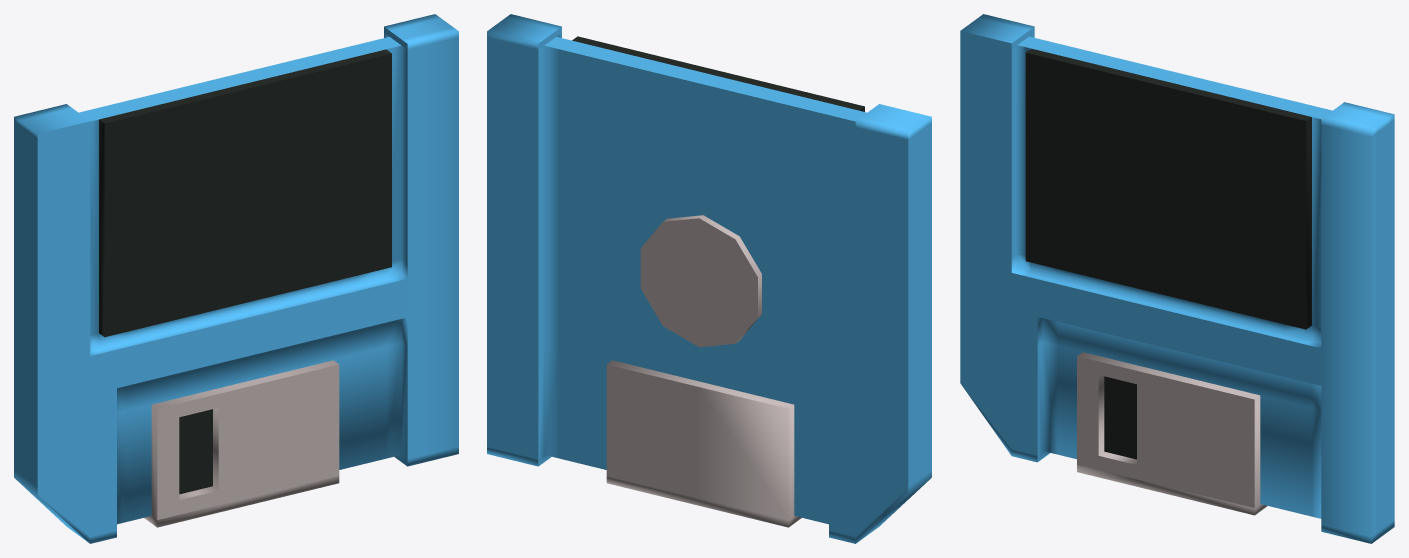
Rendered from floppydiskBLUE.fbx.
3 views of the same model, side by side, from view 1: azimuth 30°, elevation 25°; view 2: azimuth 150°, elevation 25°; view 3: azimuth 330°, elevation 25° (orthographic). The views are drawn at different scales.
Parts seen in each view (by area): view 1: floppy; view 2: floppy; view 3: floppy.
Boxes of the visible parts, x1,y1,x2,y2 form: floppy: [14, 14, 458, 543]; floppy: [487, 14, 931, 543]; floppy: [960, 14, 1394, 543].
Bounding box in the file's own units: 74.94 × 71.87 × 7.29.
